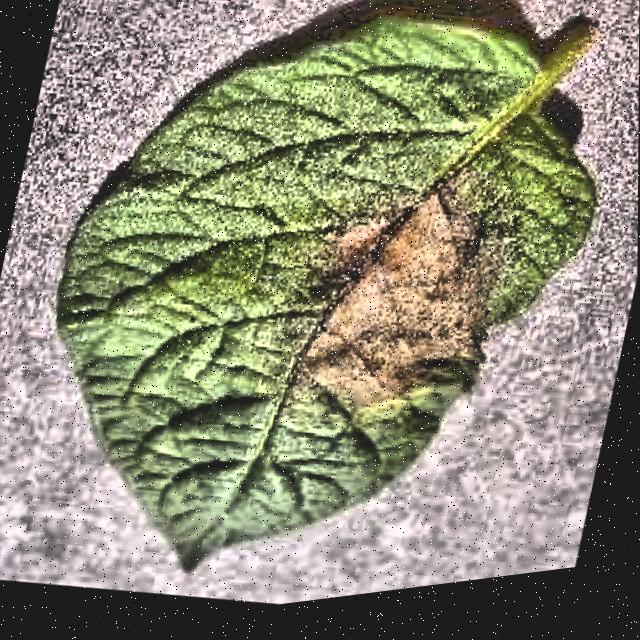Potato_leaf_late_blight: (42, 12, 604, 578)
